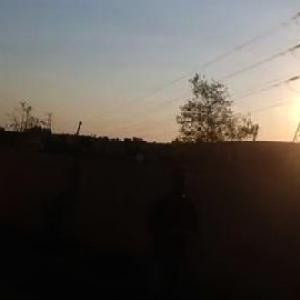follow: (141, 159, 202, 299)
